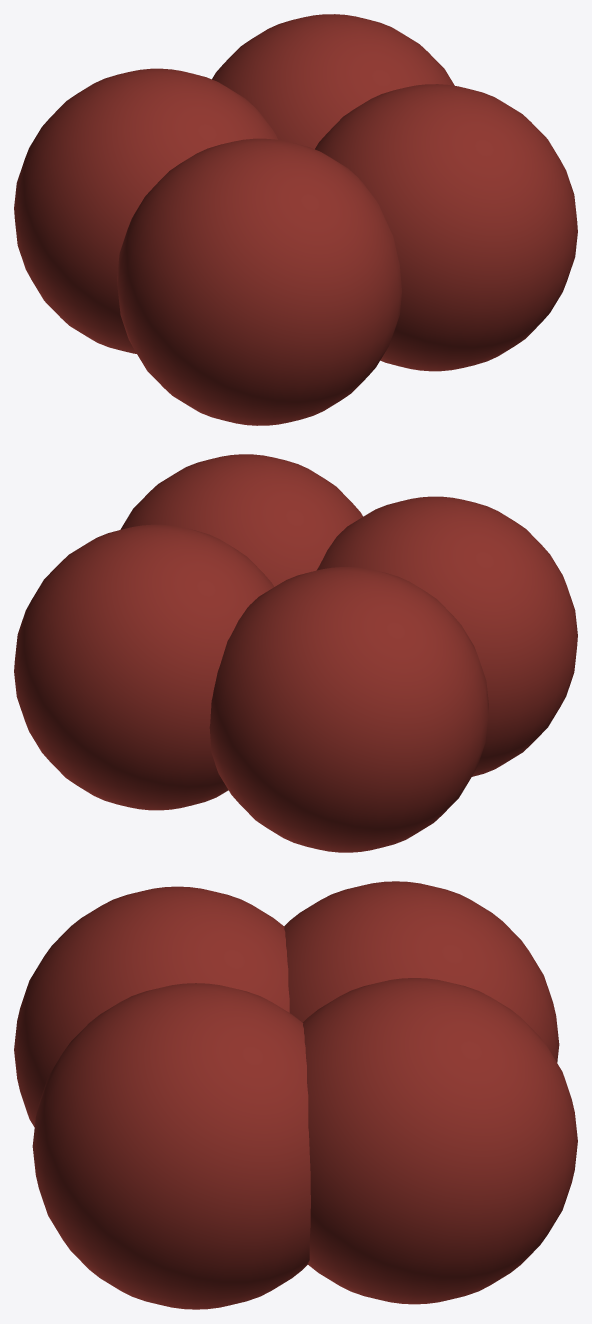
File: telrad.glb
3 renders of one model, top to bottom at view 1: azimuth 30°, elevation 25°; view 2: azimuth 150°, elevation 25°; view 3: azimuth 270°, elevation 25°, orthographic. The views are drawn at different scales.
Visible parts, largest first — view 1: Sphere.004, Sphere.003, Sphere.001, Sphere.002; view 2: Sphere.001, Sphere.002, Sphere.004, Sphere.003; view 3: Sphere.003, Sphere.002, Sphere.004, Sphere.001.
Part boxes in pixels (x1=…): Sphere.004: x1=117, y1=138, x2=401, y2=425; Sphere.003: x1=315, y1=84, x2=577, y2=371; Sphere.001: x1=14, y1=68, x2=277, y2=353; Sphere.002: x1=212, y1=14, x2=454, y2=149; Sphere.001: x1=209, y1=567, x2=488, y2=852; Sphere.002: x1=14, y1=524, x2=273, y2=810; Sphere.004: x1=316, y1=496, x2=577, y2=776; Sphere.003: x1=120, y1=454, x2=362, y2=586; Sphere.003: x1=32, y1=983, x2=310, y2=1309; Sphere.002: x1=303, y1=978, x2=577, y2=1304; Sphere.004: x1=14, y1=886, x2=289, y2=1126; Sphere.001: x1=284, y1=881, x2=559, y2=1062.
Bounding box in the file's own units: 4.14 × 2.4 × 4.06.
